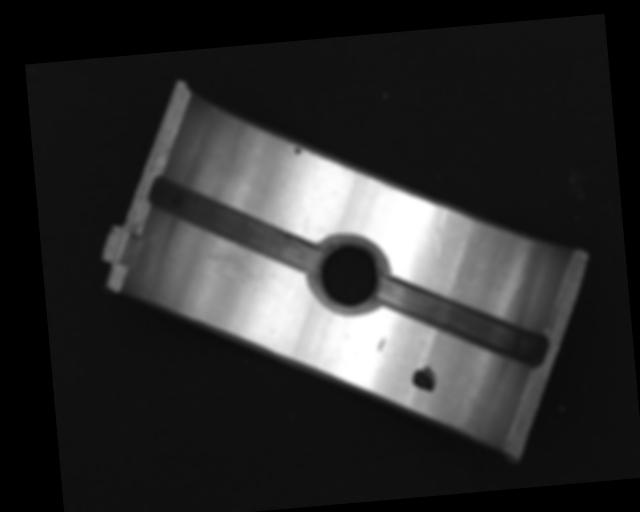blot: (409, 364, 437, 394), (292, 145, 303, 156)
bruise: (428, 207, 454, 258), (377, 336, 387, 353)
gap: (148, 165, 322, 283), (378, 266, 547, 379)
hole: (308, 232, 388, 318)
scratch: (185, 241, 274, 299)
